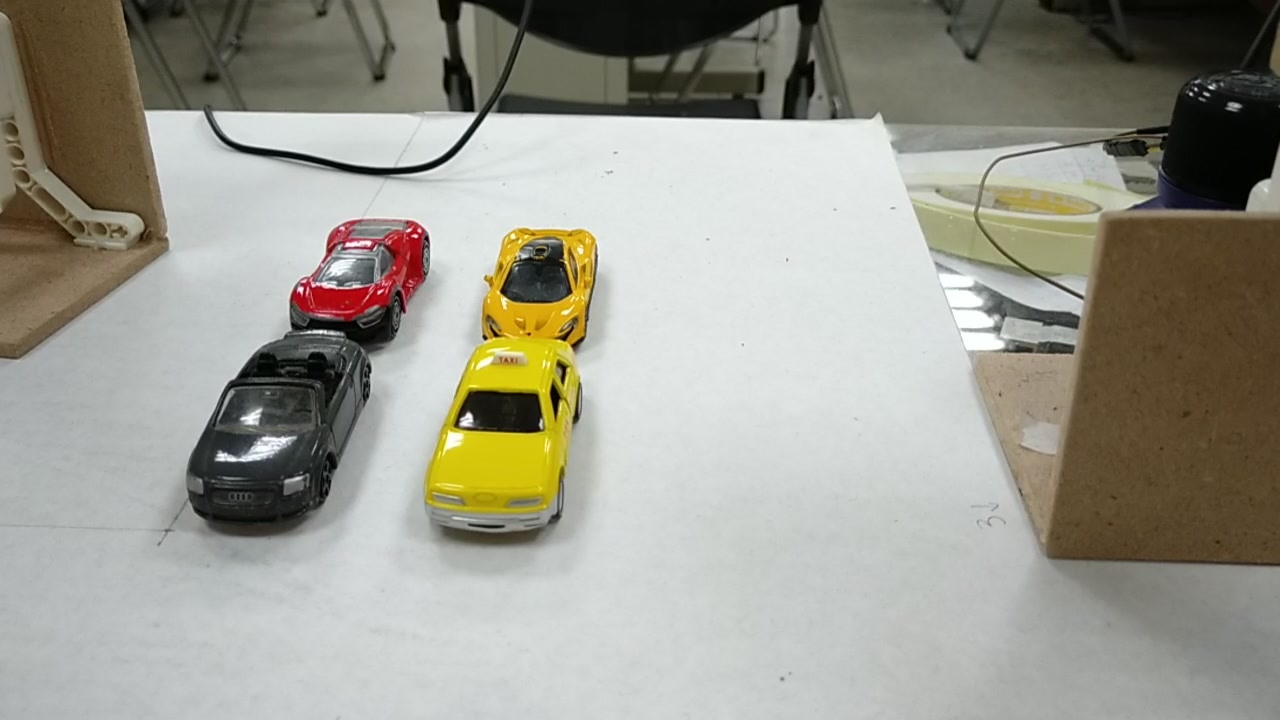car: (179, 333, 383, 523), (422, 341, 580, 534), (290, 224, 434, 333), (477, 226, 606, 341)
